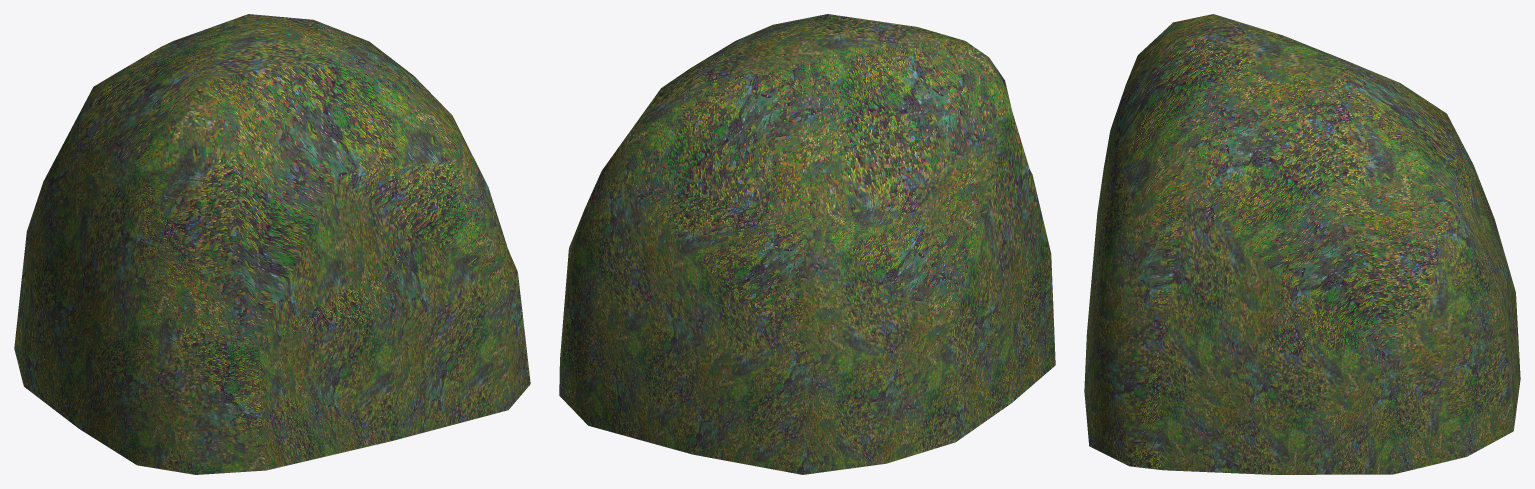
The model's file is rock_mossy_big_l0.fbx.
The picture shows the model from 3 angles, left to right: view 1: azimuth 30°, elevation 25°; view 2: azimuth 150°, elevation 25°; view 3: azimuth 270°, elevation 25°; orthographic projection. The views are drawn at different scales.
Visible parts, largest first — view 1: mesh_node; view 2: mesh_node; view 3: mesh_node.
Boxes of the visible parts, x1,y1,x2,y2 form: mesh_node: [14, 14, 530, 474]; mesh_node: [559, 14, 1055, 474]; mesh_node: [1084, 14, 1520, 474].
Size of the model in its own units: 6.03 by 4.88 by 5.96.
